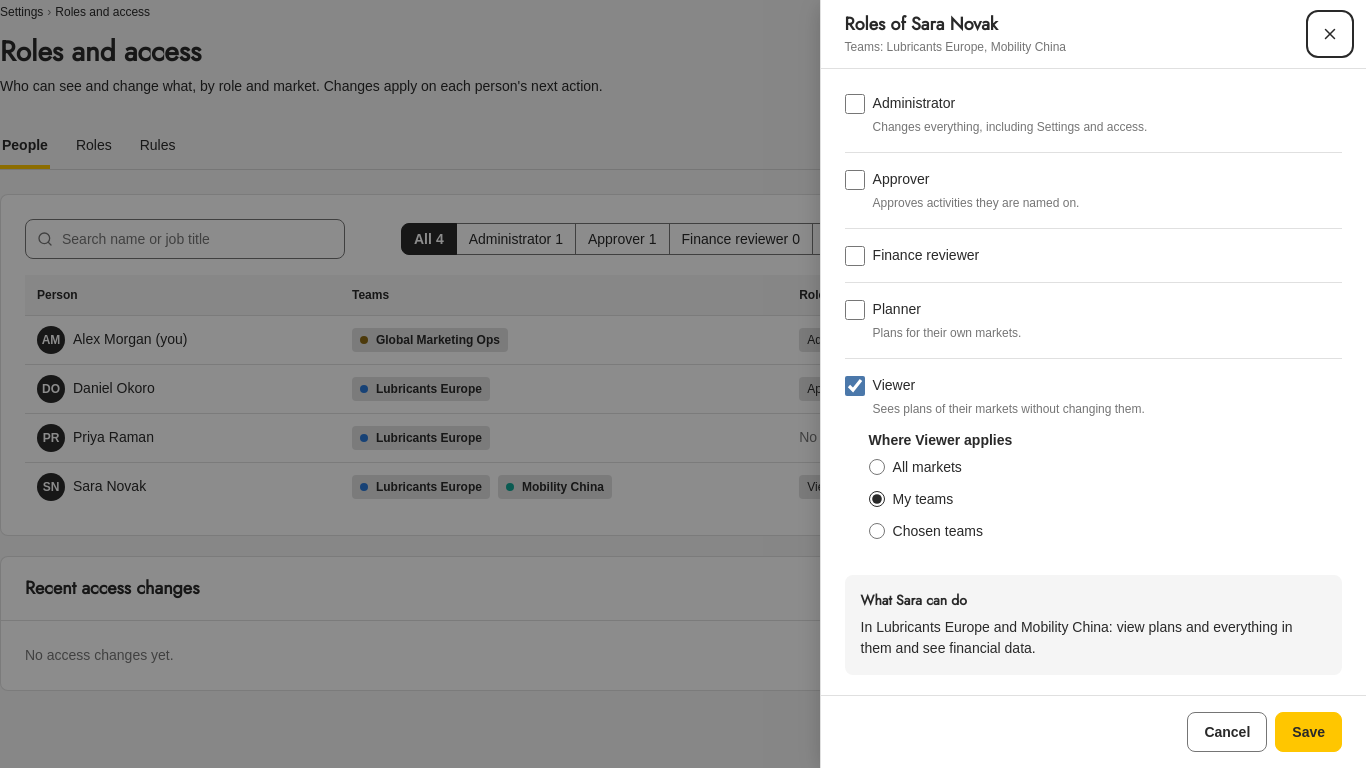
Test: AccessPage: a person's roles (feature 014, US3) › shows the field problems of a save at their role
Step 1. Click the checkbox labelled "Planner" → [855, 310], box [845,300,865,320]
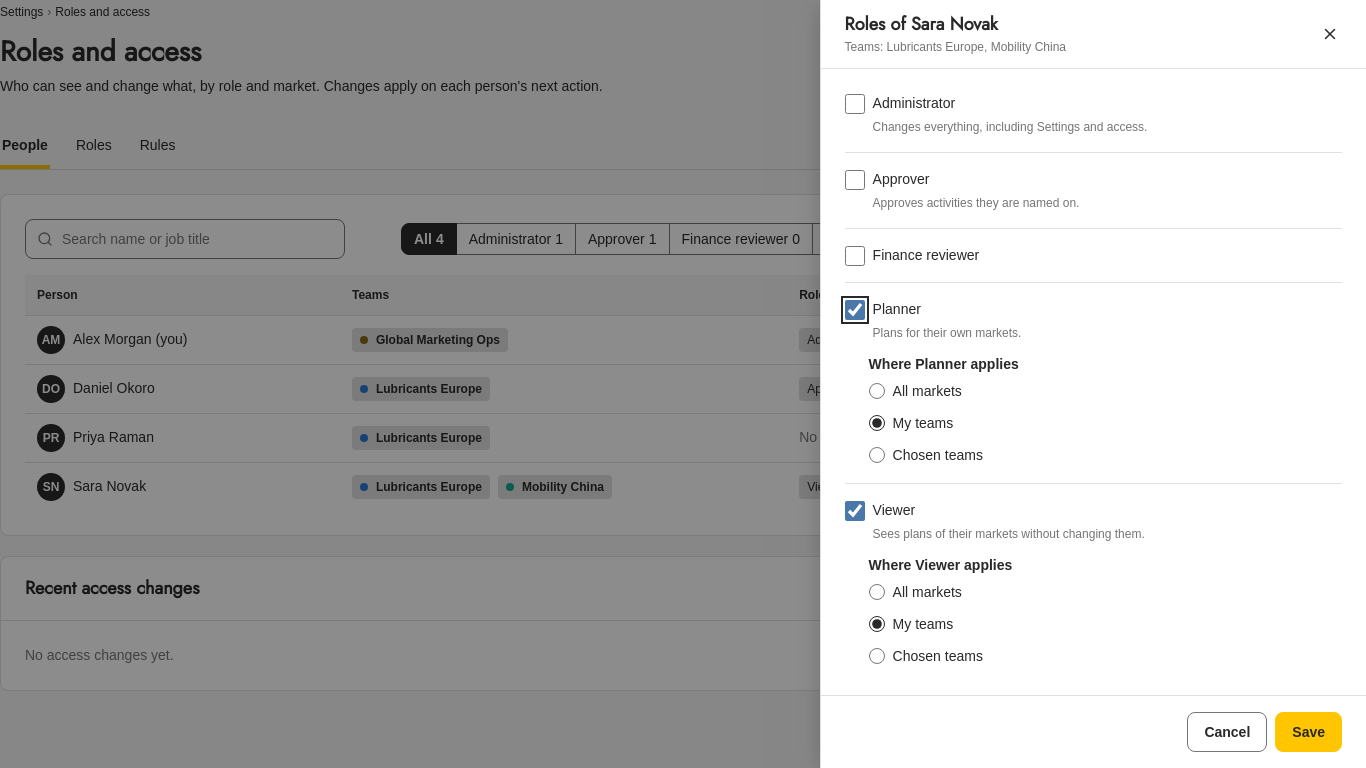
Step 2. Click the radio button labelled "Chosen teams" below "Where Planner applies" → [877, 455], box [869,447,885,463]
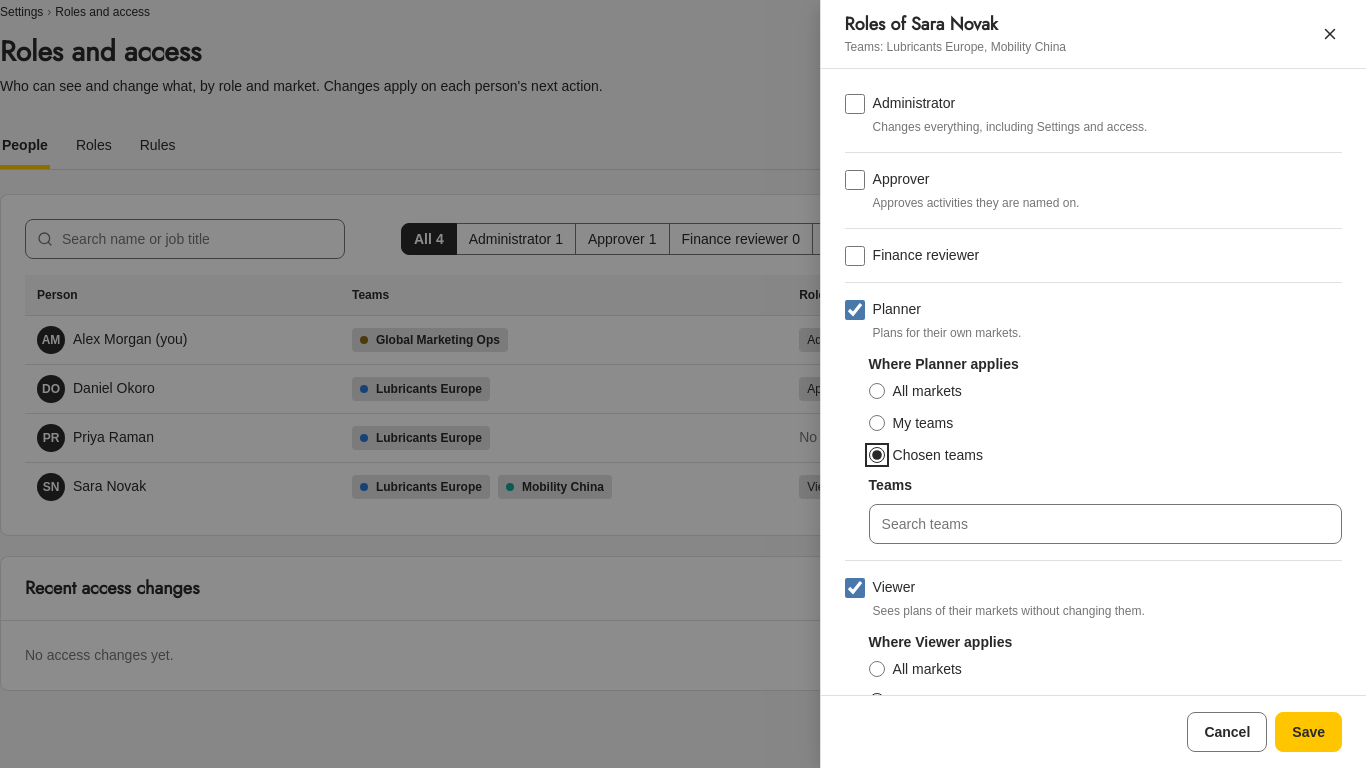
Step 3. Click the button "Save" → [1309, 732], box [1275,712,1342,752]
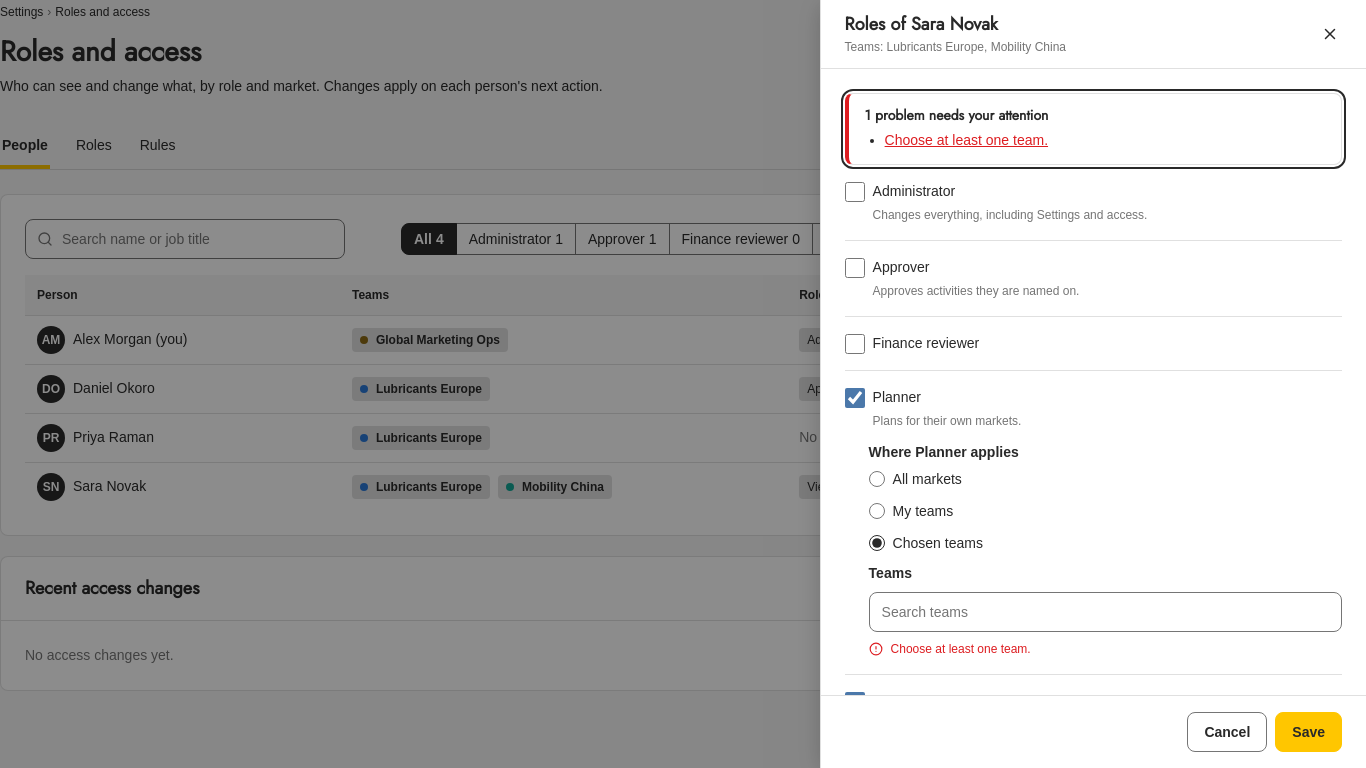
Check: the number of links "Choose at least one team." is 2, box [885,128,1048,152]; [869,642,1031,656]
